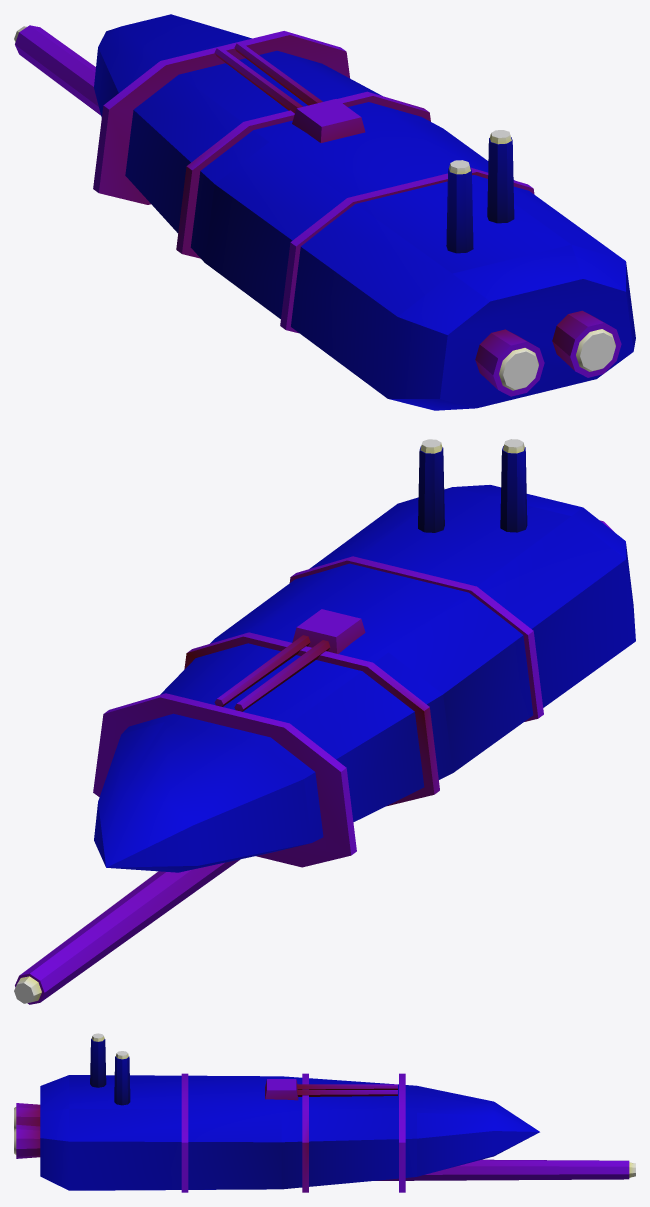
File: pygmaei_annihilator_destroyer.fbx
3 views of the same model, one above another, from view 1: azimuth 30°, elevation 25°; view 2: azimuth 150°, elevation 25°; view 3: azimuth 270°, elevation 25° (orthographic). The views are drawn at different scales.
Parts seen in each view (by area): view 1: pygmaei_annihilator_destroyer; view 2: pygmaei_annihilator_destroyer; view 3: pygmaei_annihilator_destroyer.
Part boxes in pixels (x1,y1,x2,y2): pygmaei_annihilator_destroyer: (14, 14, 635, 410); pygmaei_annihilator_destroyer: (14, 439, 635, 1004); pygmaei_annihilator_destroyer: (14, 1033, 635, 1192).
Bounding box in the file's own units: 0.52 × 0.4594 × 1.87.
